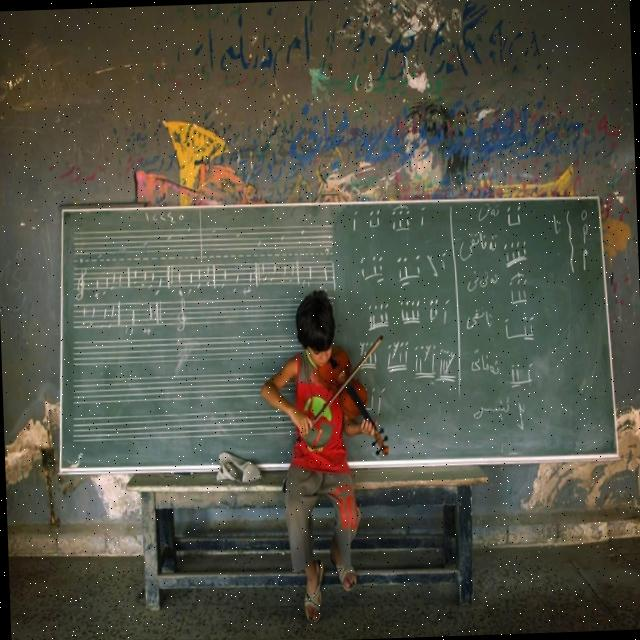violin: (316, 343, 391, 458)
